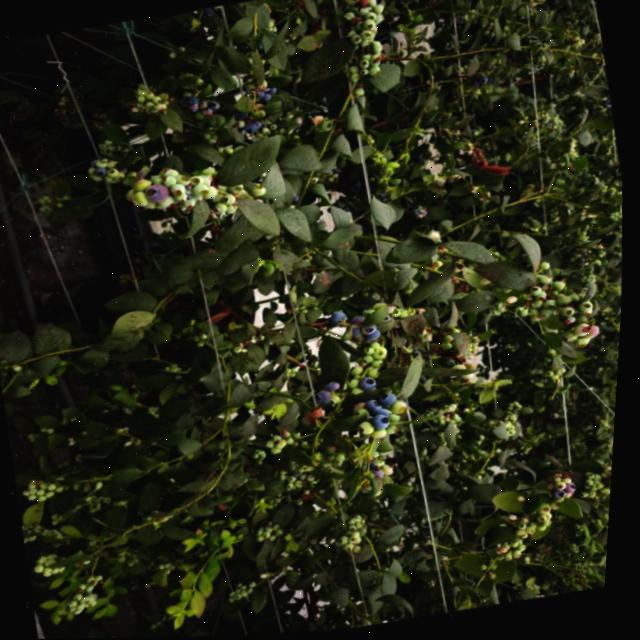RipeBlueBerry: (370, 414, 394, 433), (358, 376, 380, 395), (376, 393, 400, 410), (314, 390, 334, 409), (329, 311, 348, 326)
Semi-RipeBlueBerry: (141, 183, 172, 207)
UnripeBlueBerry: (128, 191, 150, 211), (572, 322, 594, 341), (370, 349, 389, 364)
